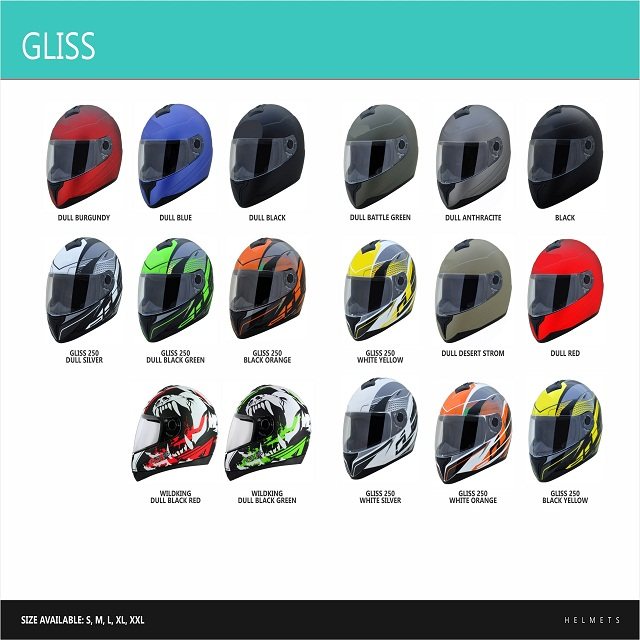with_helmet: (222, 382, 315, 484), (128, 381, 220, 484), (134, 101, 217, 209), (432, 102, 514, 211), (228, 101, 309, 211), (135, 233, 216, 343), (432, 379, 516, 485), (338, 375, 421, 482), (340, 102, 420, 212), (338, 237, 421, 343), (42, 236, 122, 345), (432, 237, 514, 343), (524, 237, 605, 344), (527, 376, 608, 483), (525, 102, 604, 211), (227, 237, 308, 341), (43, 103, 120, 209)
